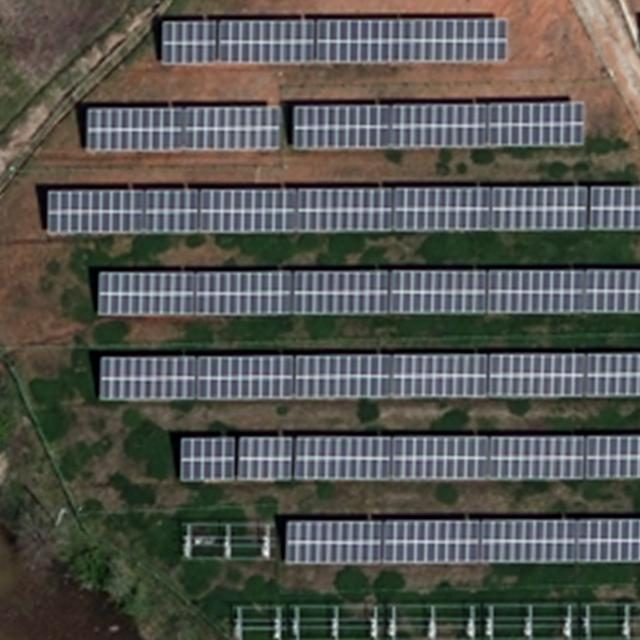panel: (314, 13, 510, 64), (94, 269, 196, 321), (216, 15, 317, 67), (85, 103, 187, 153), (290, 102, 393, 151), (43, 186, 146, 235), (193, 268, 292, 318), (292, 265, 390, 315), (480, 515, 578, 565), (487, 98, 584, 148), (293, 433, 393, 481), (283, 518, 383, 566), (382, 516, 481, 564), (196, 187, 297, 234), (97, 355, 198, 402), (392, 101, 490, 149), (197, 354, 295, 402), (393, 433, 491, 481), (489, 351, 587, 399), (296, 354, 394, 401), (392, 185, 492, 231), (185, 103, 281, 150), (491, 433, 585, 481), (391, 268, 489, 314), (393, 352, 490, 398), (487, 268, 586, 313), (297, 186, 393, 232), (492, 185, 587, 230), (157, 15, 216, 69), (578, 515, 640, 562), (178, 434, 235, 483), (237, 433, 293, 481), (585, 433, 639, 479), (145, 187, 198, 233), (589, 185, 639, 233), (587, 351, 638, 397), (588, 268, 639, 313)
